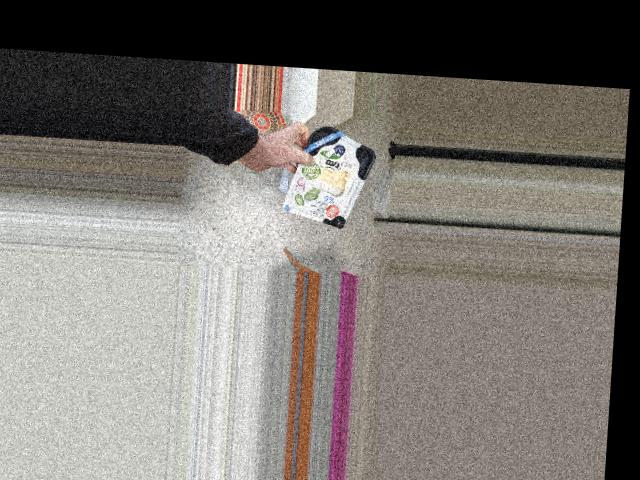cheese: (290, 128, 363, 228)
